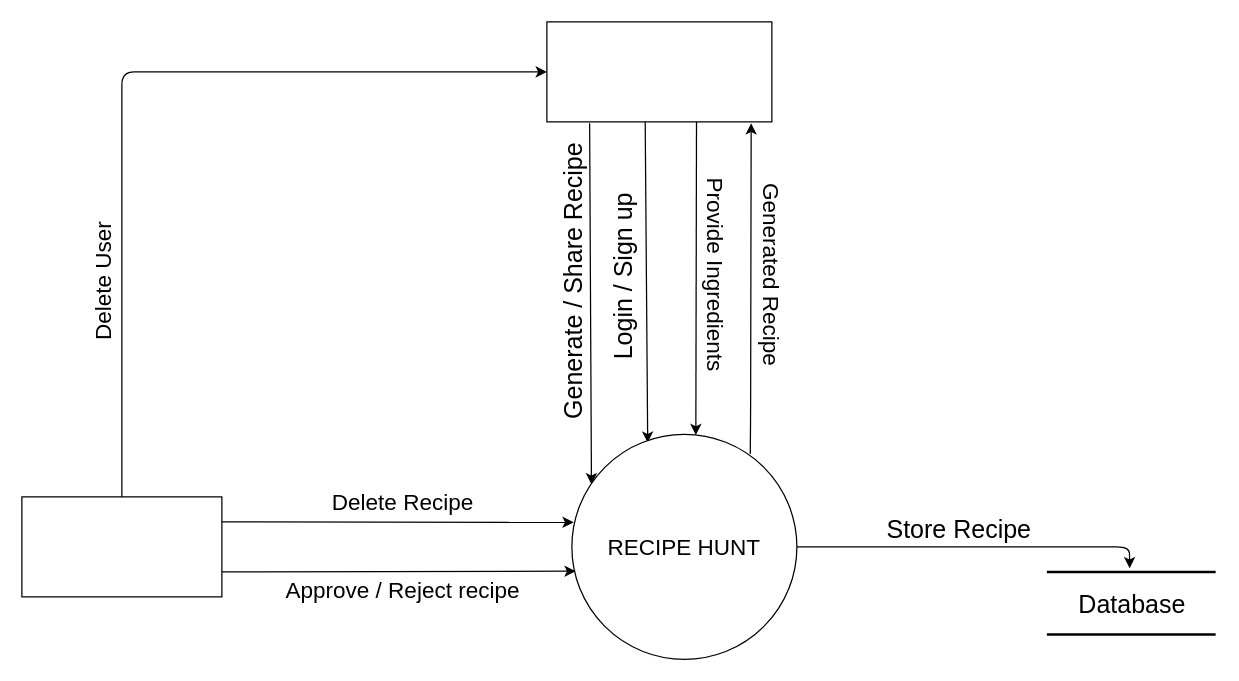
This 1239x681 diagram has some shape labels left out. Each missing label, with the centre of its shape:
ADMIN: (x=121, y=546)
USER: (x=659, y=71)
